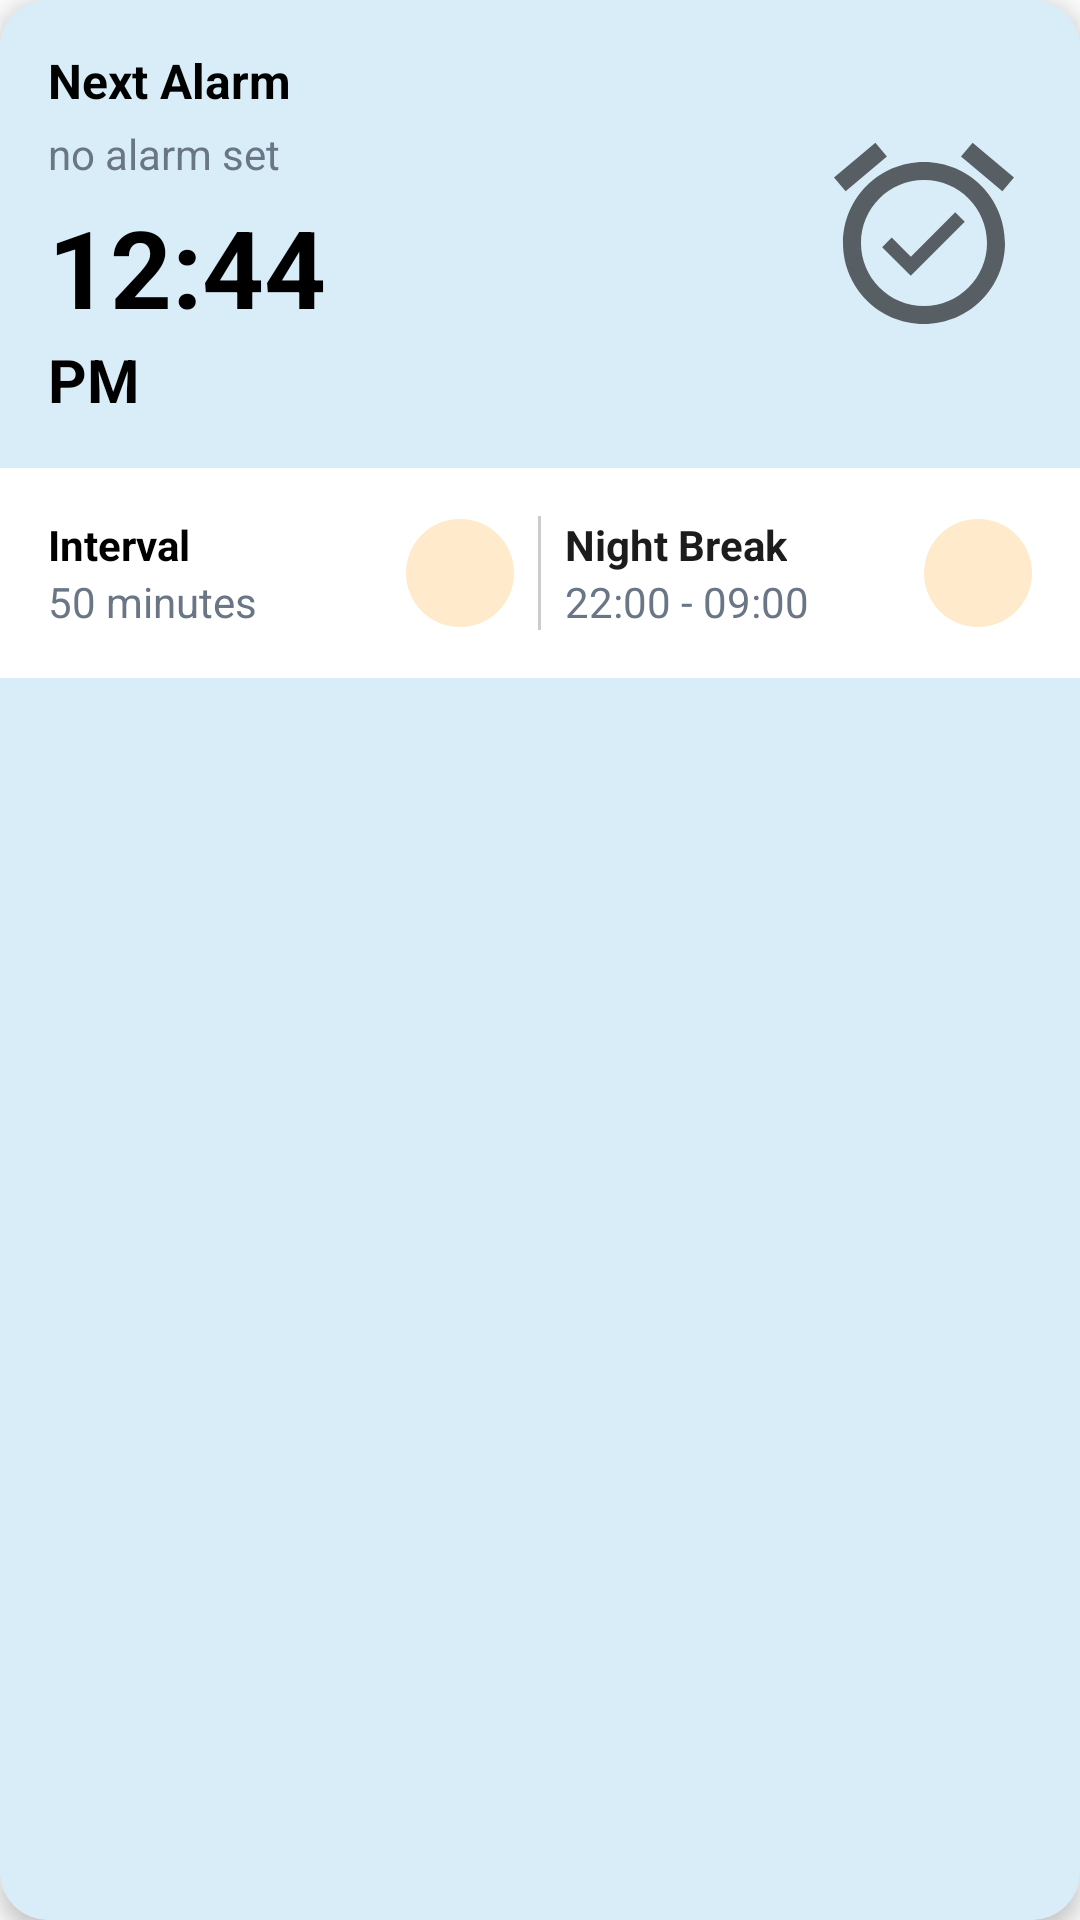

Where icons sit on this 1080x1920 app screen, as (x1, y1, x2, y2):
Clock: (834, 143, 1014, 324)
